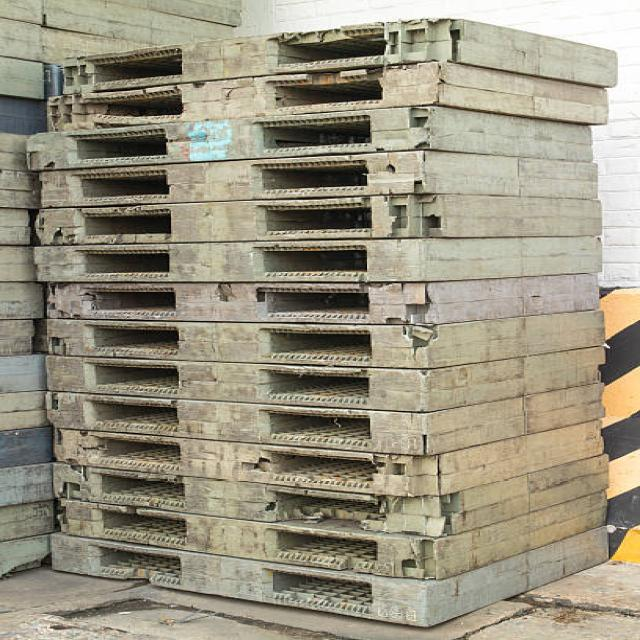Wooden-Pallets: (20, 486, 630, 586), (34, 12, 627, 105), (27, 417, 618, 499), (20, 335, 616, 414), (0, 100, 603, 178), (16, 273, 618, 335), (13, 190, 618, 248)
